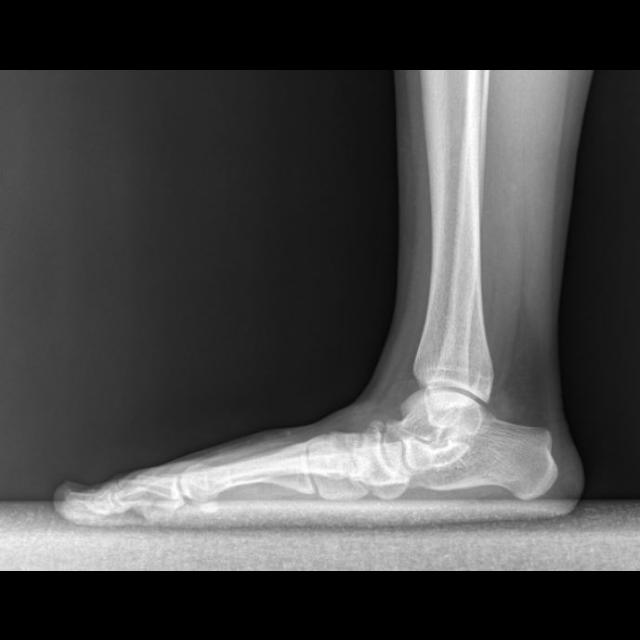a: (404, 410, 558, 500)
b: (352, 424, 411, 498)
c: (178, 441, 319, 518)
